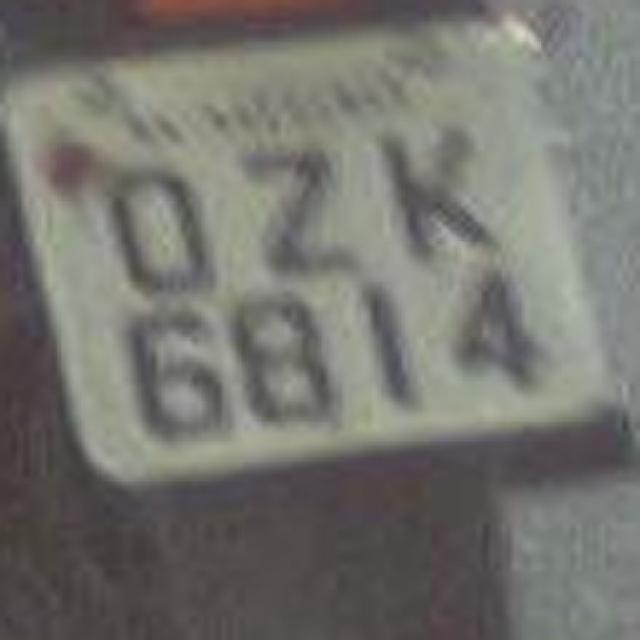1: (344, 288, 428, 420)
4: (440, 276, 552, 412)
6: (104, 280, 231, 440)
8: (212, 272, 340, 432)
N: (375, 120, 520, 280)
O: (100, 132, 225, 292)
Z: (240, 129, 372, 276)
